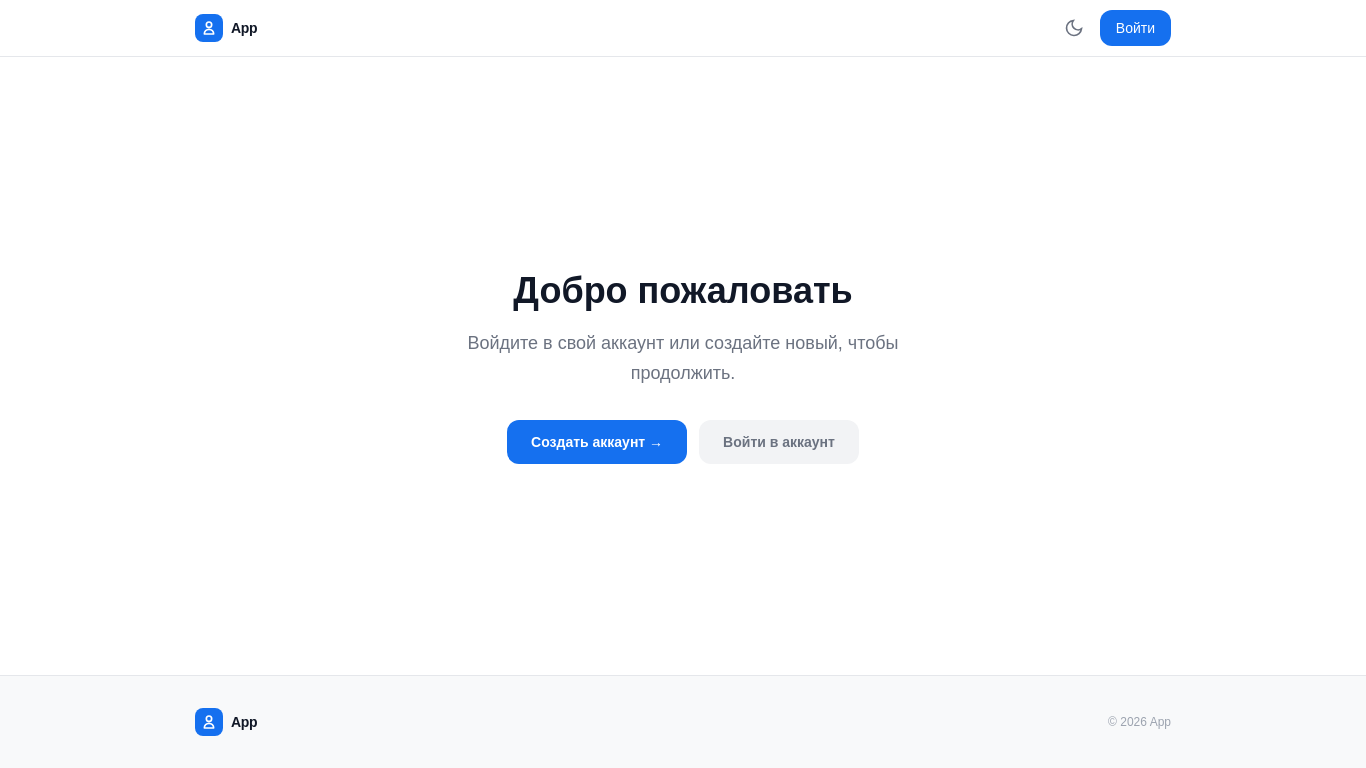
Test: Home + AuthModal (login/register/forgot) › клик «Войти» открывает модальное окно с заголовком и полем пароля
The image size is (1366, 768).
Click the button "Войти".
click(1135, 28)  # box [1100,10,1171,46]
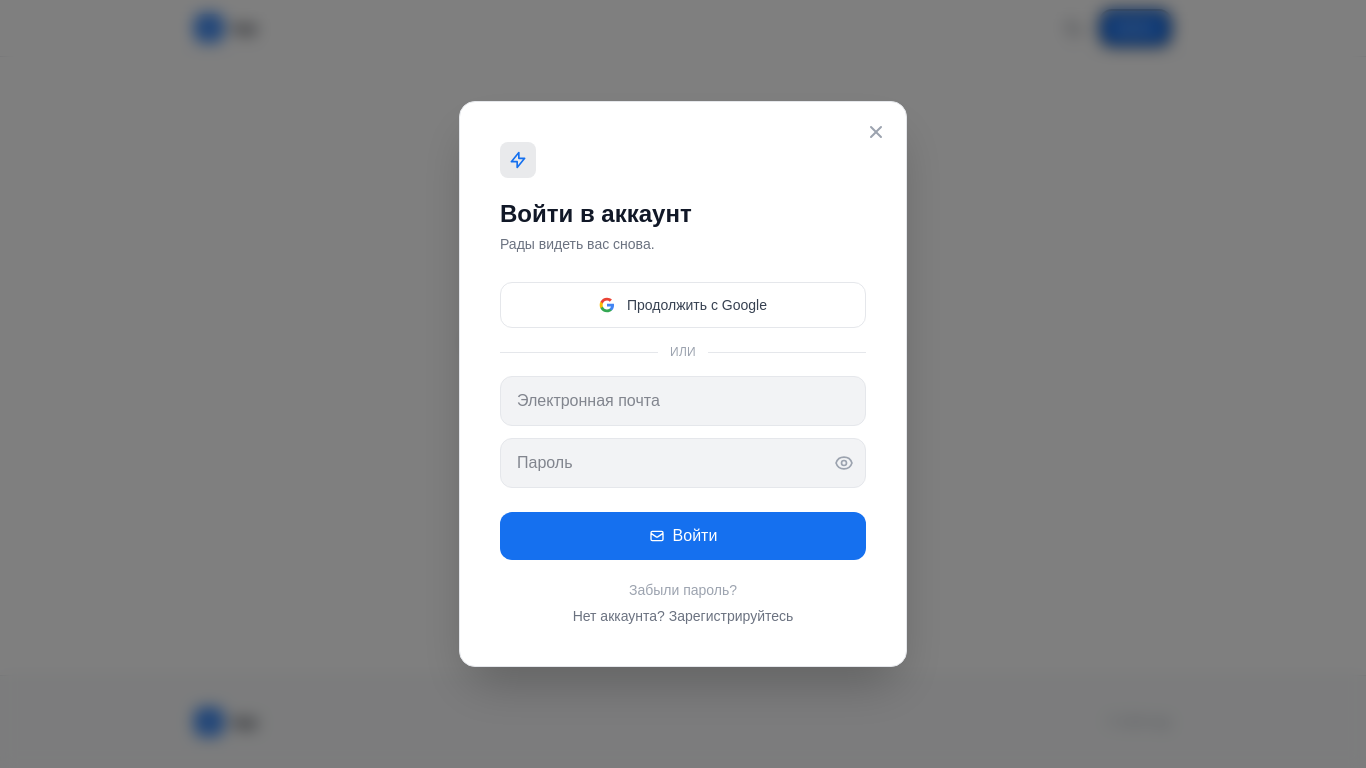
Expected: the heading "Войти в аккаунт" is shown, [500,200,692,227]
Expected: the password field with placeholder "Пароль" is shown, [500,438,866,488]
